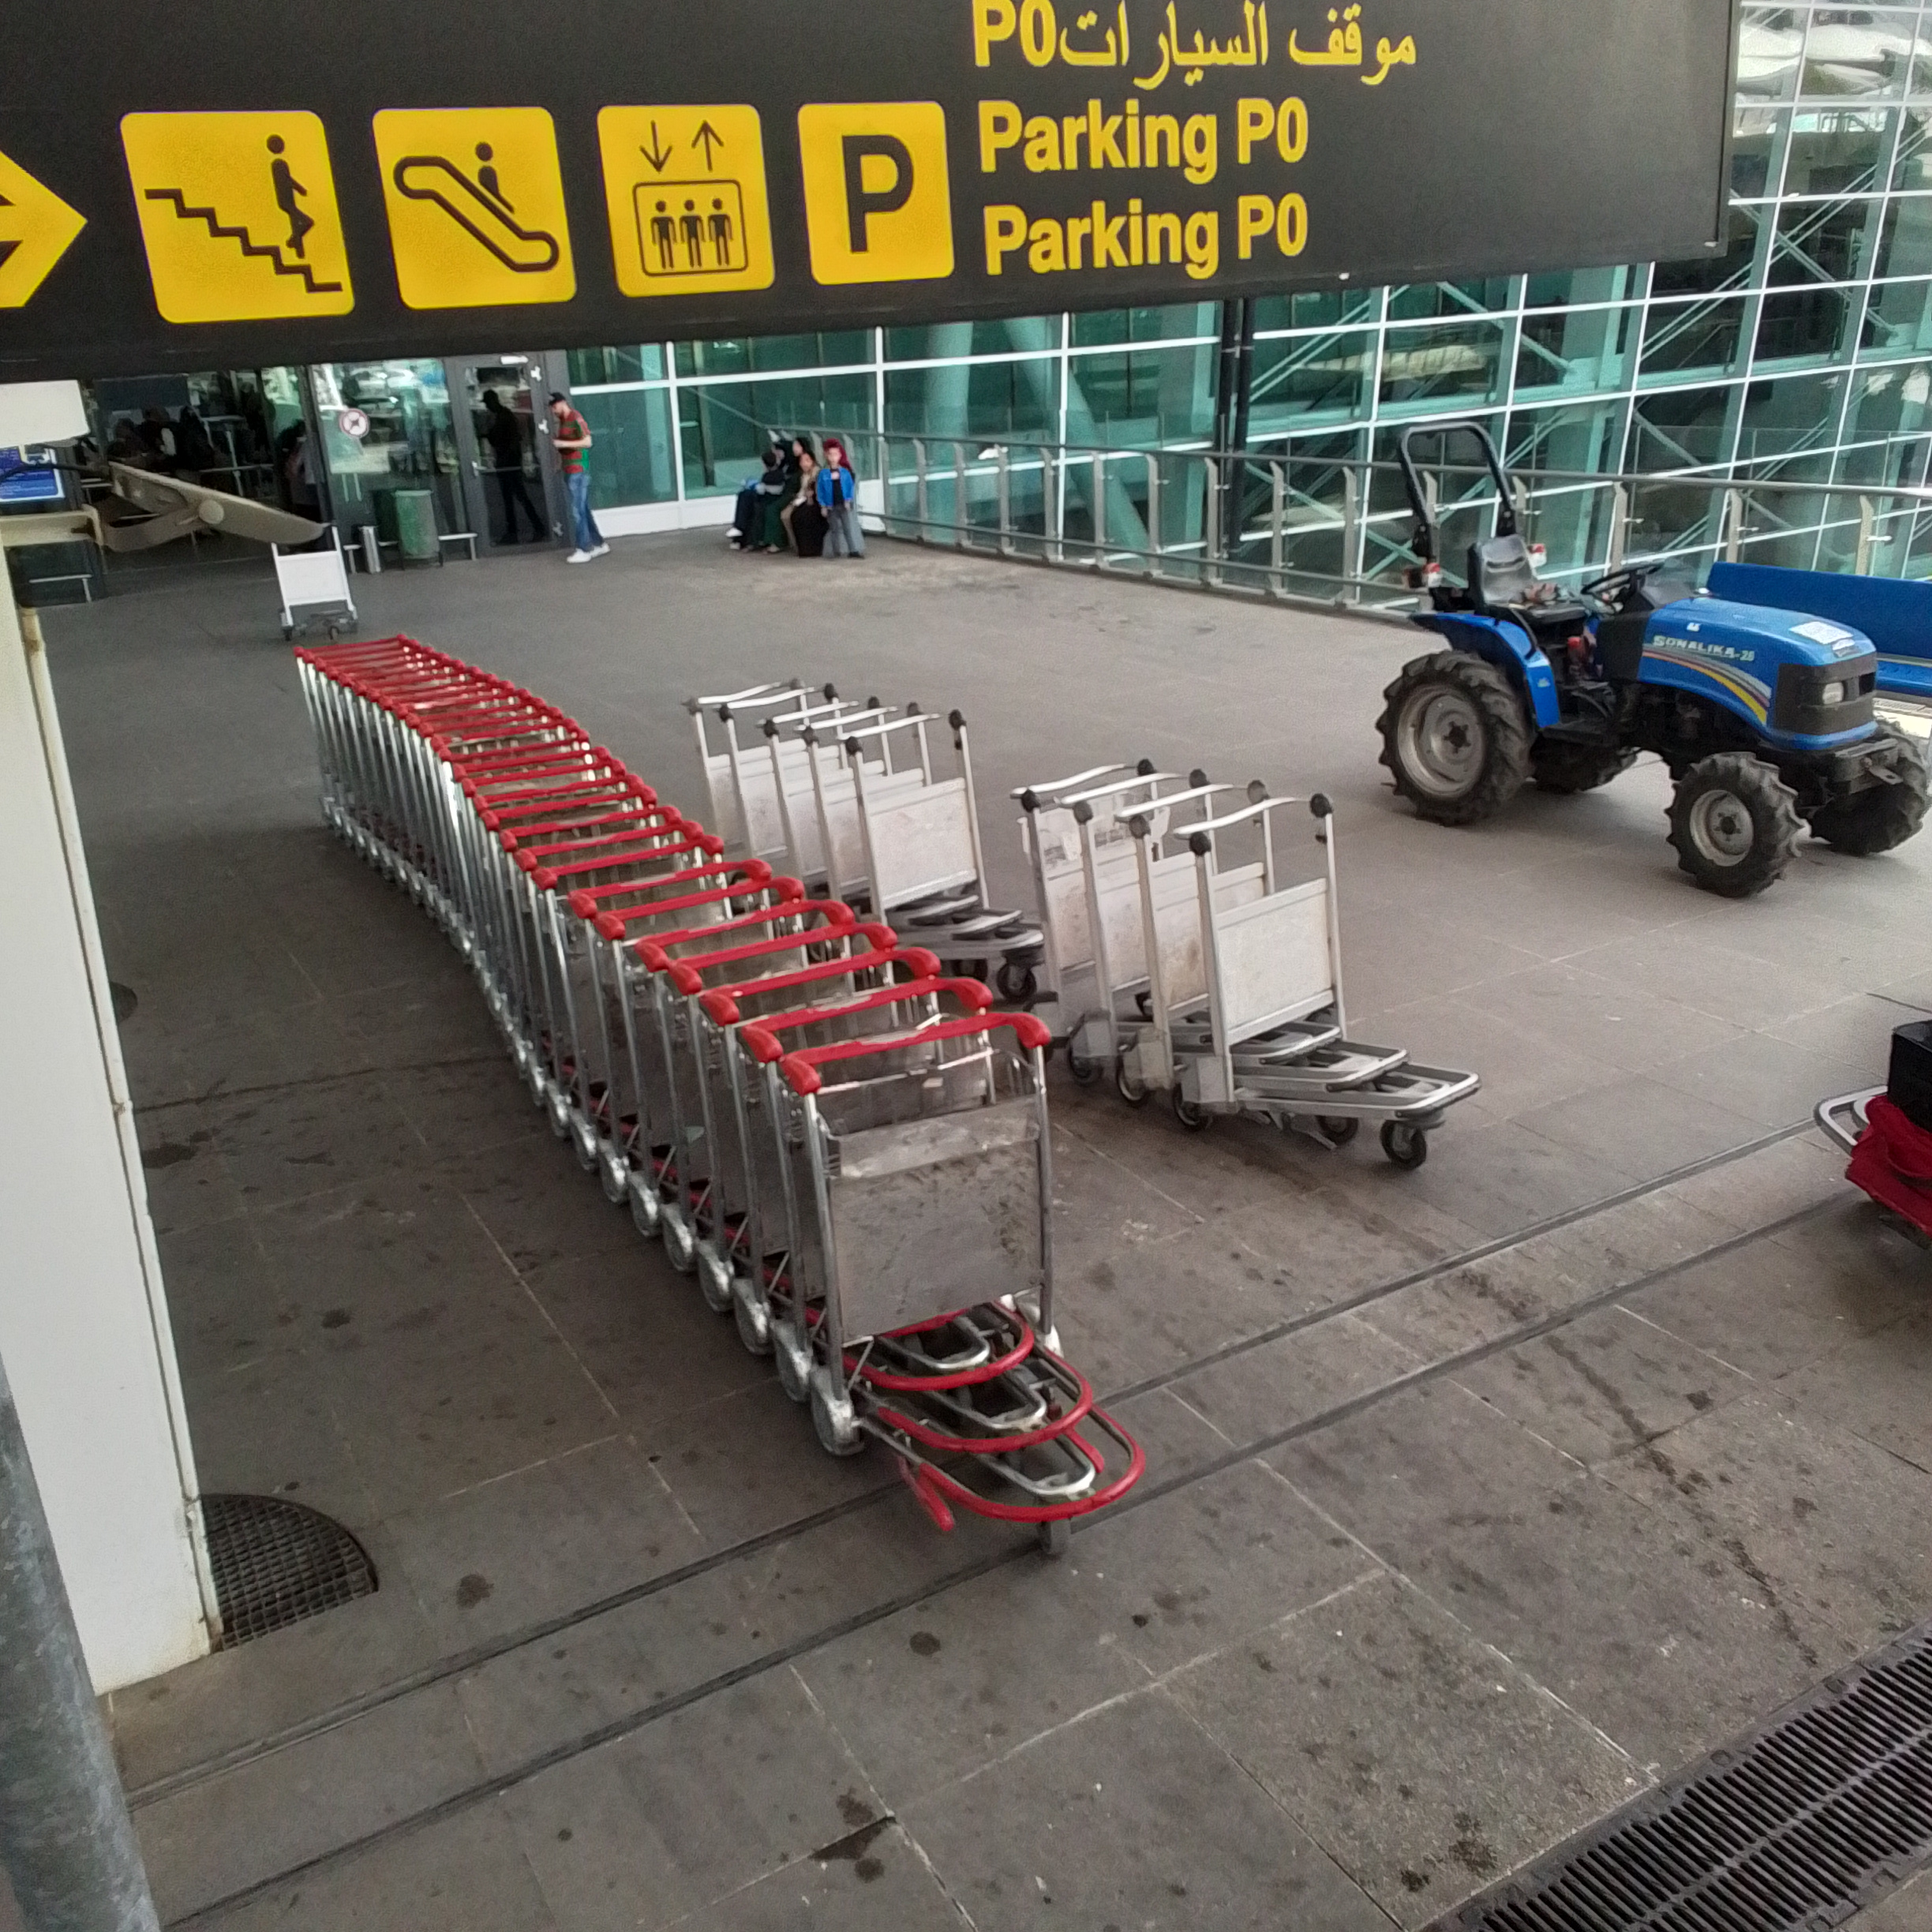airport-trolley: (803, 1016, 1141, 1522), (757, 985, 1012, 1435), (709, 947, 964, 1339), (1175, 796, 1447, 1123), (630, 897, 858, 1260), (685, 929, 922, 1242), (1106, 787, 1306, 1136), (846, 709, 1031, 998), (1063, 775, 1215, 1083), (1016, 755, 1157, 1072), (803, 709, 975, 934), (720, 690, 865, 906), (750, 702, 904, 899), (669, 679, 814, 860)
